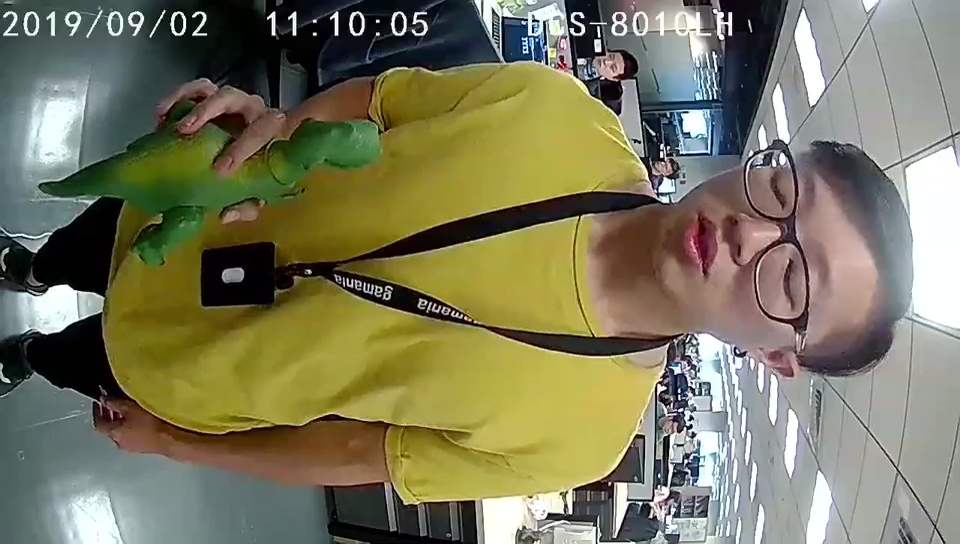rex: (127, 118, 380, 269)
